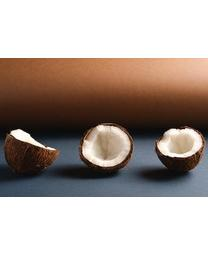coconut: (77, 123, 135, 172), (3, 128, 60, 176), (153, 124, 206, 174)
